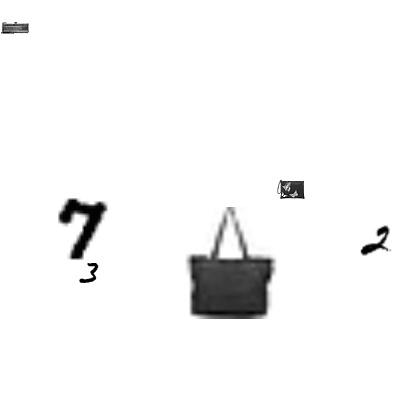2: (355, 221, 397, 263)
3: (76, 259, 104, 287), (239, 258, 253, 272)
7: (38, 178, 122, 262)
Bag: (175, 207, 287, 319), (1, 14, 29, 42), (277, 175, 305, 203)
